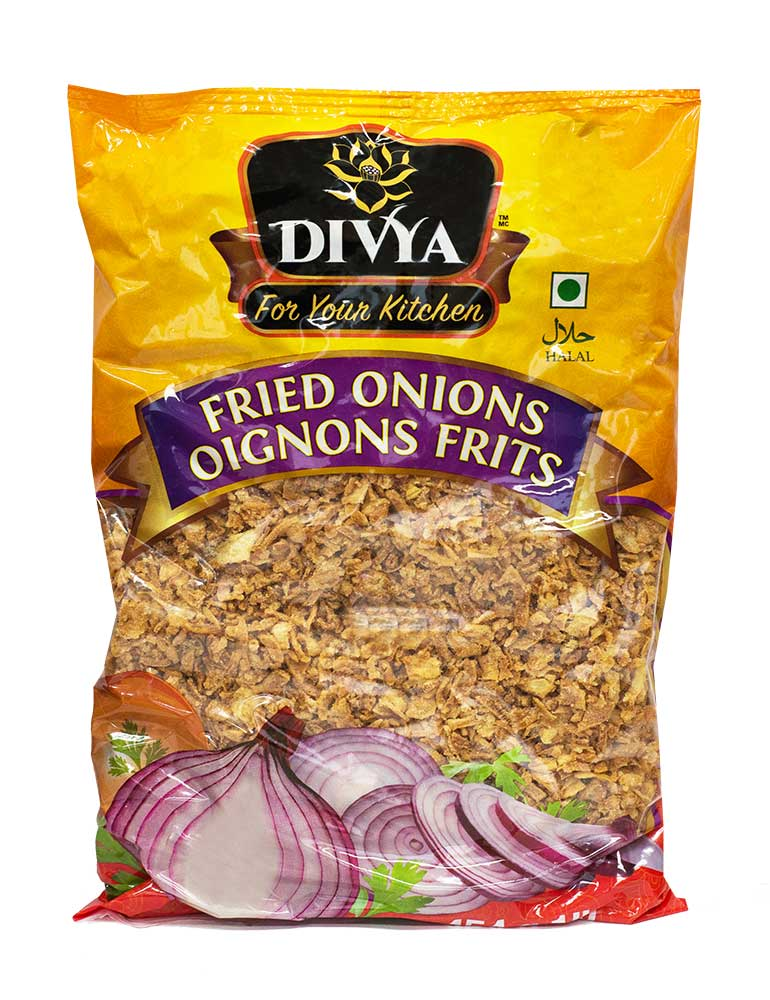VEG: (548, 271, 592, 310)
